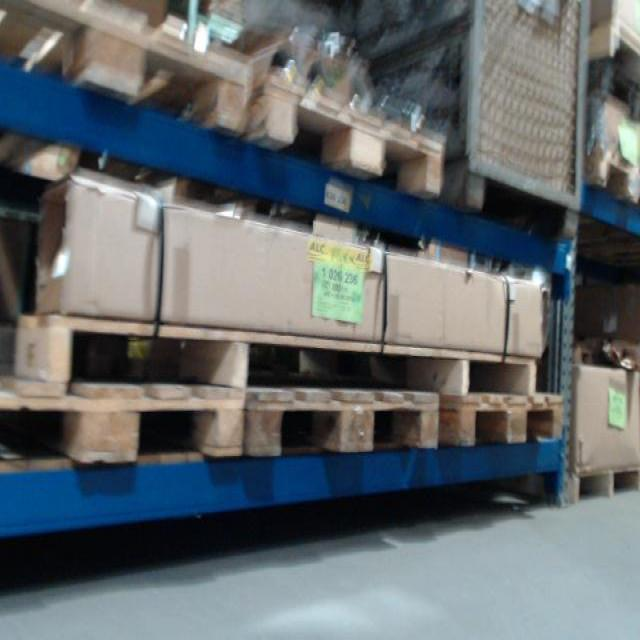pallet: (247, 76, 444, 200), (0, 377, 246, 471), (244, 381, 441, 459), (440, 392, 563, 460), (570, 461, 640, 507), (583, 149, 640, 204), (586, 21, 640, 76)
stillage: (326, 4, 590, 242)
